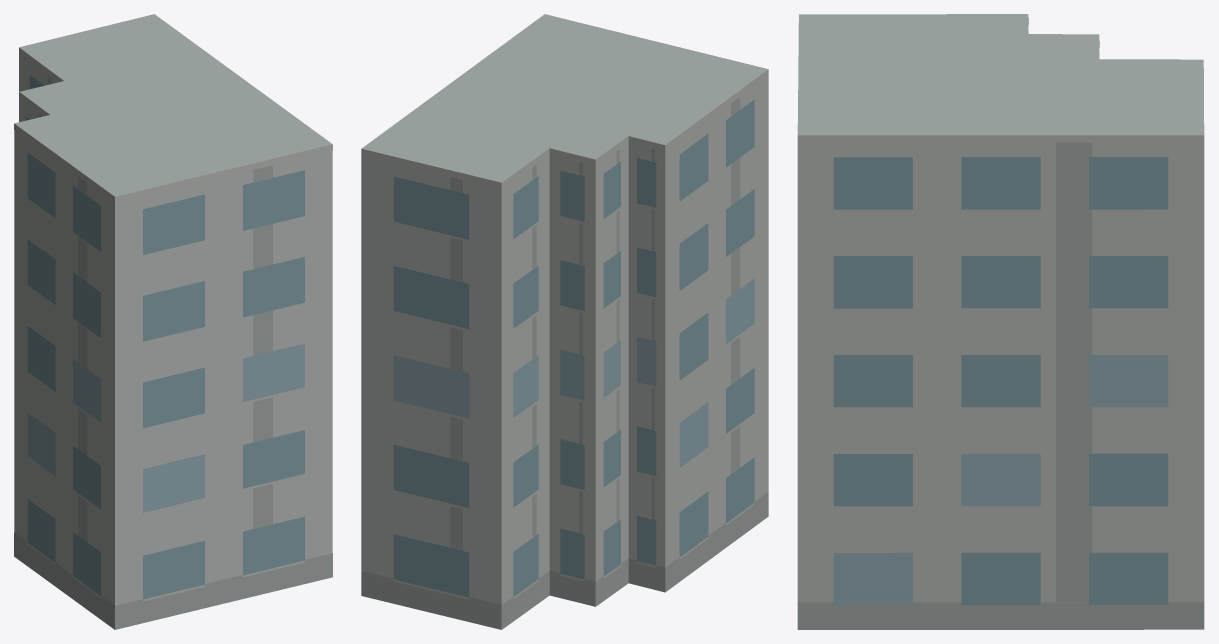
Rendered from survey-upis-33043575.glb.
3 renders of one model, left to right at view 1: azimuth 30°, elevation 25°; view 2: azimuth 150°, elevation 25°; view 3: azimuth 270°, elevation 25°, orthographic. The views are drawn at different scales.
Visible parts, largest first — view 1: survey-upis-33043575.tmp; view 2: survey-upis-33043575.tmp; view 3: survey-upis-33043575.tmp.
Boxes of the visible parts, x1,y1,x2,y2 form: survey-upis-33043575.tmp: (14,14,332,629); survey-upis-33043575.tmp: (361,14,768,629); survey-upis-33043575.tmp: (797,14,1204,629).
Bounding box in the file's own units: 8.54 × 16.2 × 12.09.
